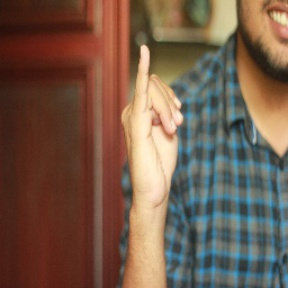I: (119, 43, 186, 206)
